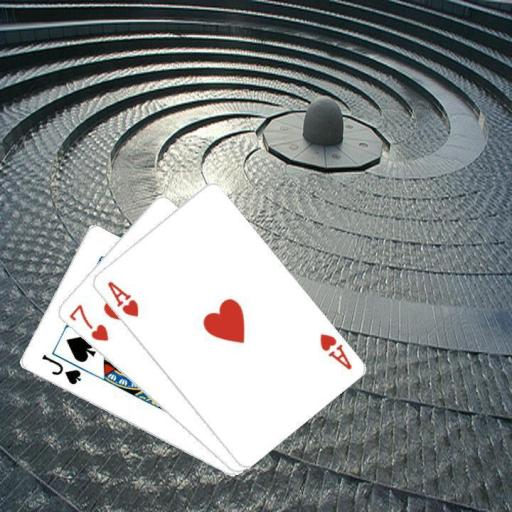card-corner: (66, 301, 110, 343), (38, 351, 82, 387), (316, 330, 353, 372), (104, 278, 140, 318)
